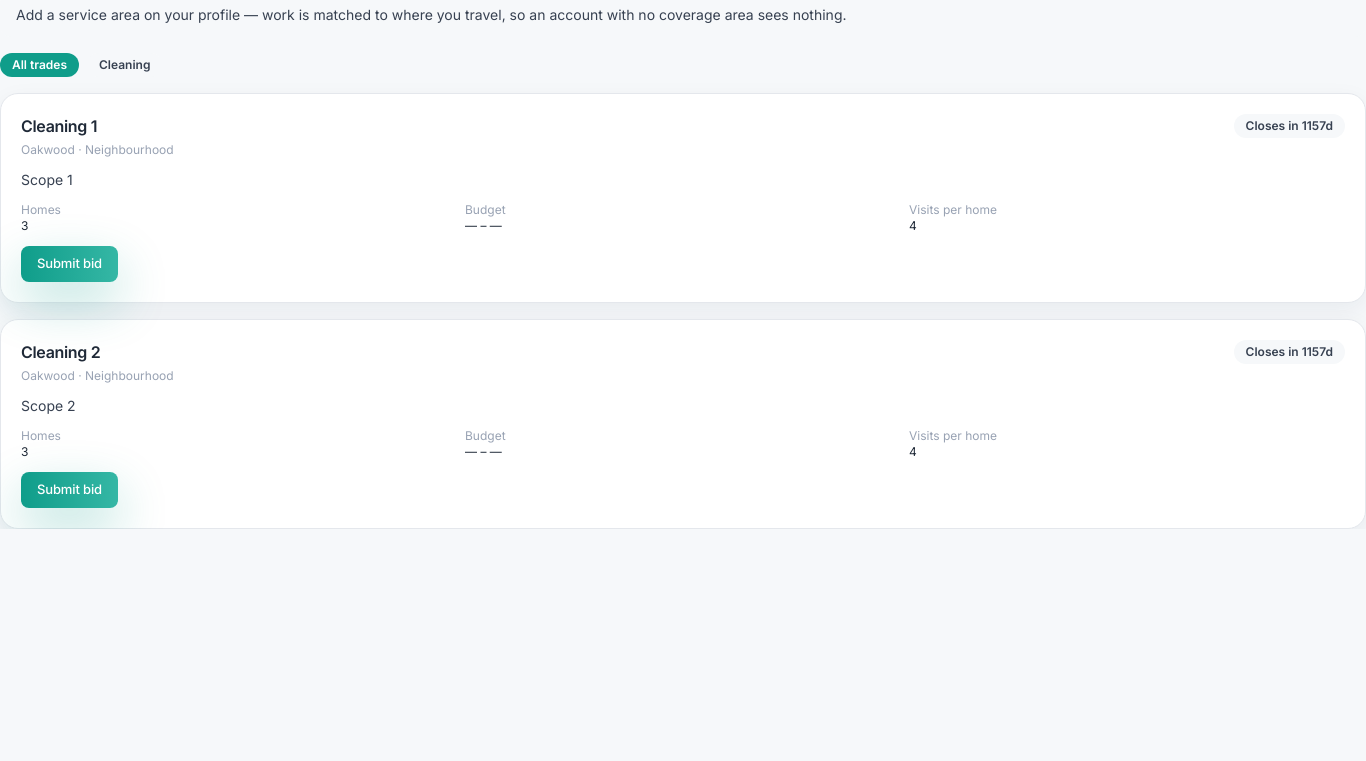
Test: provider bid feedback with the real marketplace hook › keeps failed writes local to their card and retains the draft for retry
The image size is (1366, 761).
Expected: the heading "Cleaning 1" is shown, [21,116,97,136]
Click the button "Submit bid" below "Scope 1".
click(70, 264)  # box [21,246,118,282]
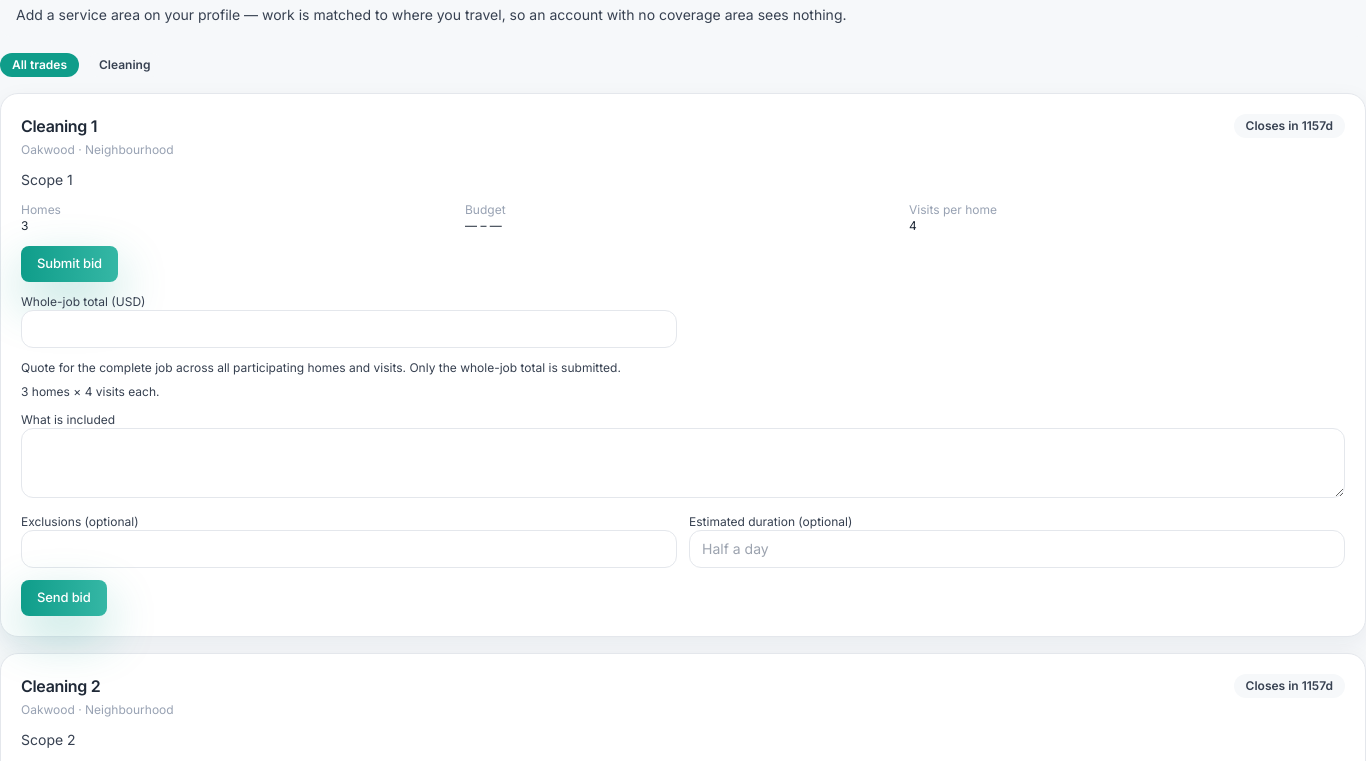
Type "100.01" into the number field labelled "Whole-job total (USD)".
click(349, 329); type("100.01")  # box [21,310,677,348]
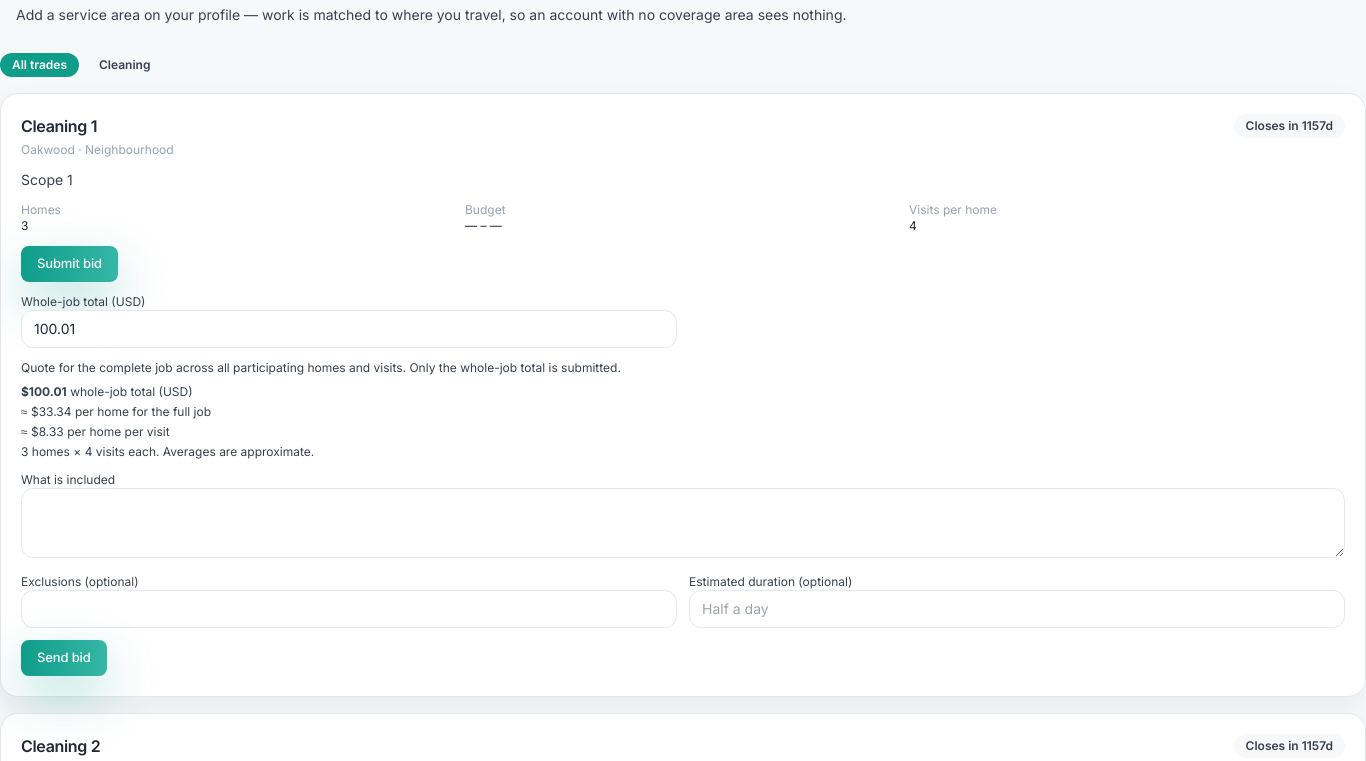
Type "Draft for card 1" into the text box labelled "What is included".
click(683, 523); type("Draft for card 1")  # box [21,488,1345,558]
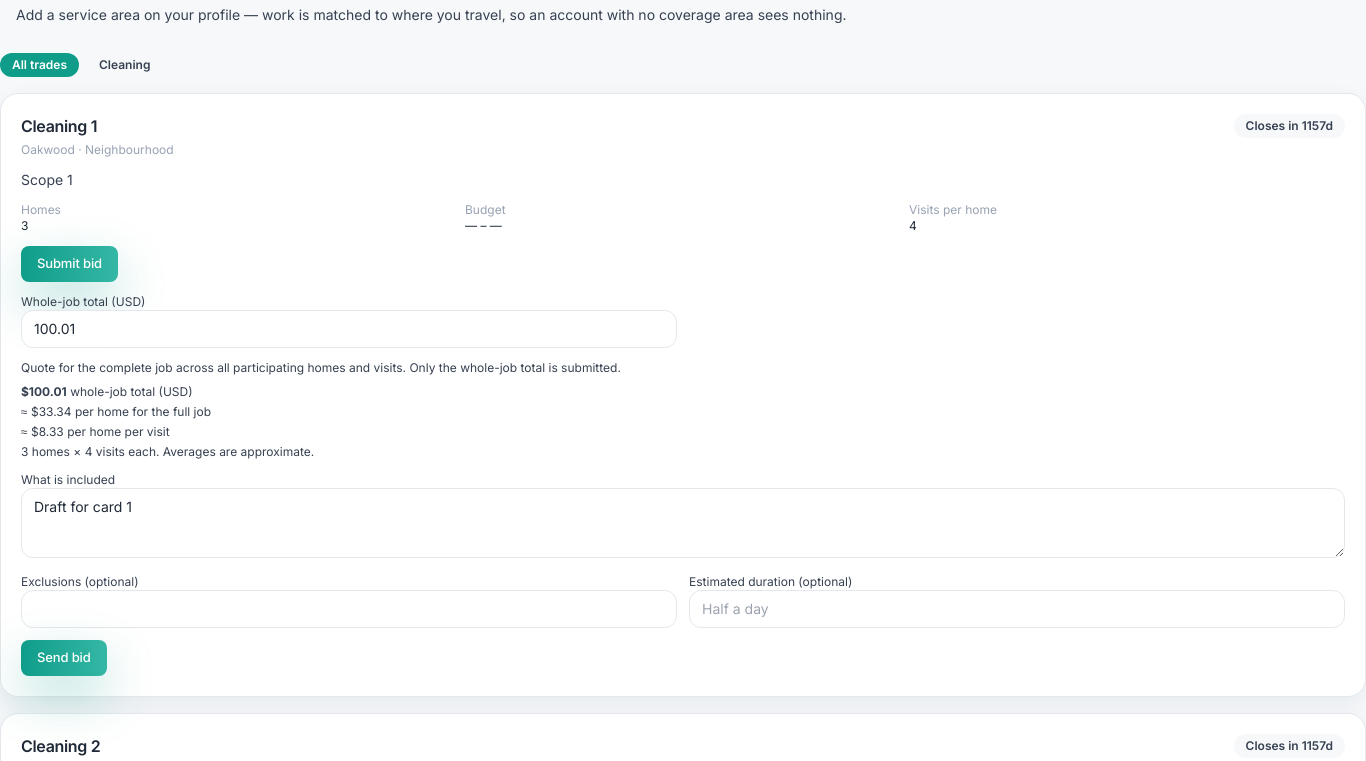
Submit the form labelled "Whole-job total", box [21,294,1345,676]
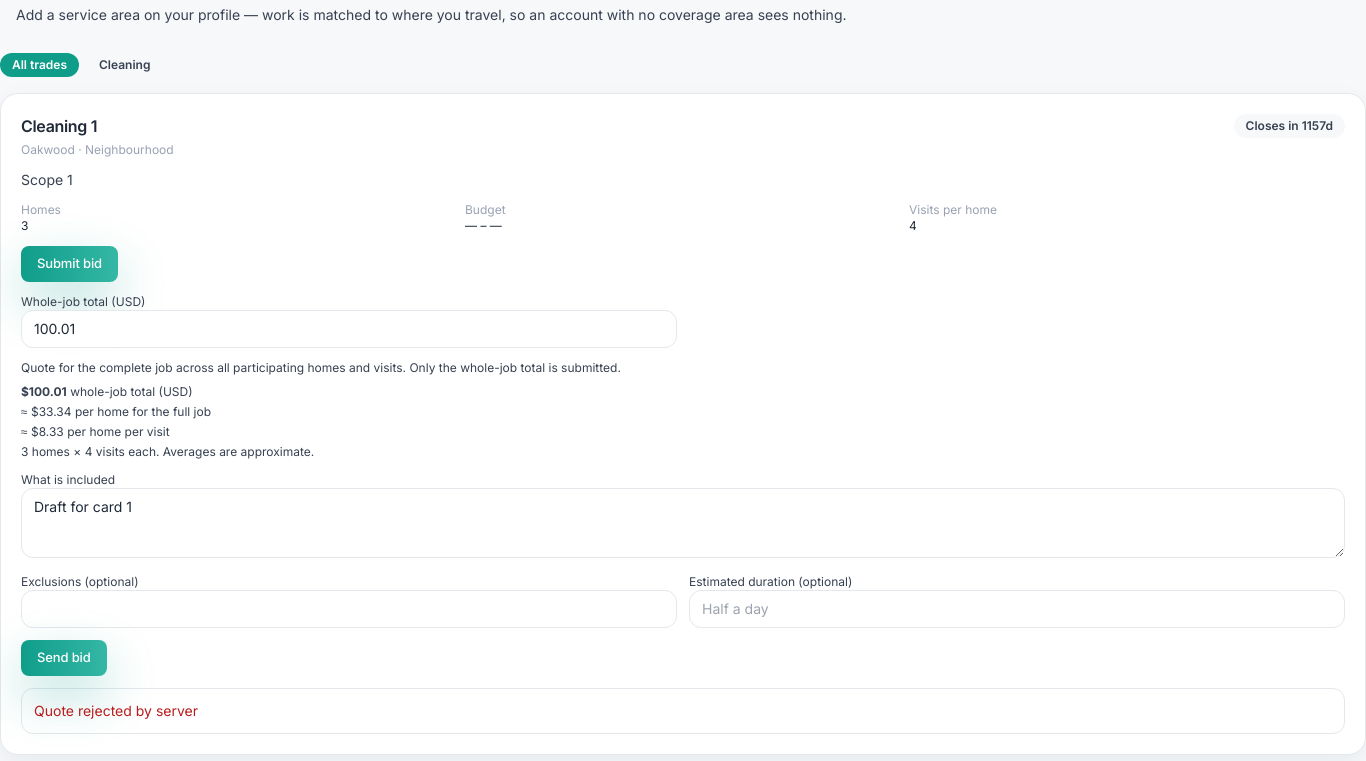
Expected: the message "Quote rejected by server" is shown, [34,702,198,719]
Submit the form labelled "Whole-job total", box [21,294,1345,676]
(page scrolled)
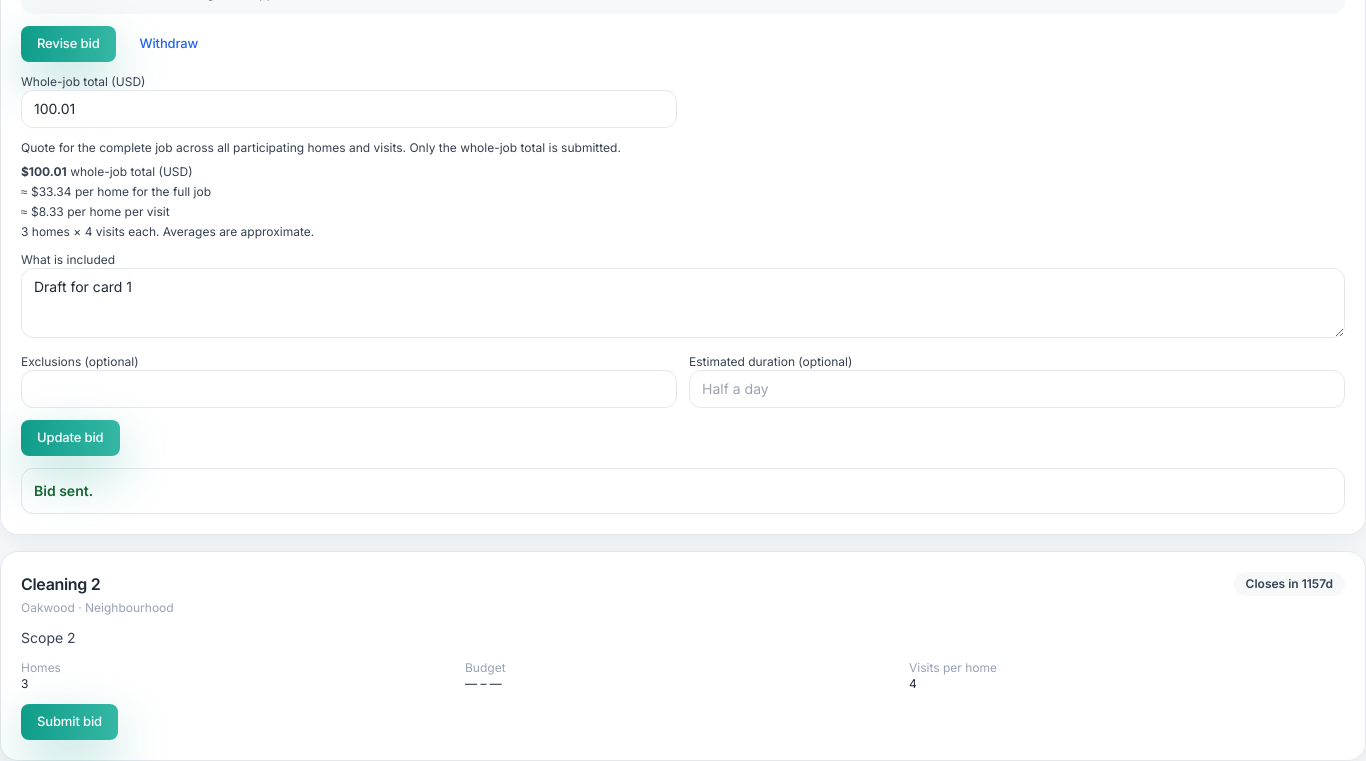
Expected: the text "Bid sent." is shown, [34,482,93,499]
